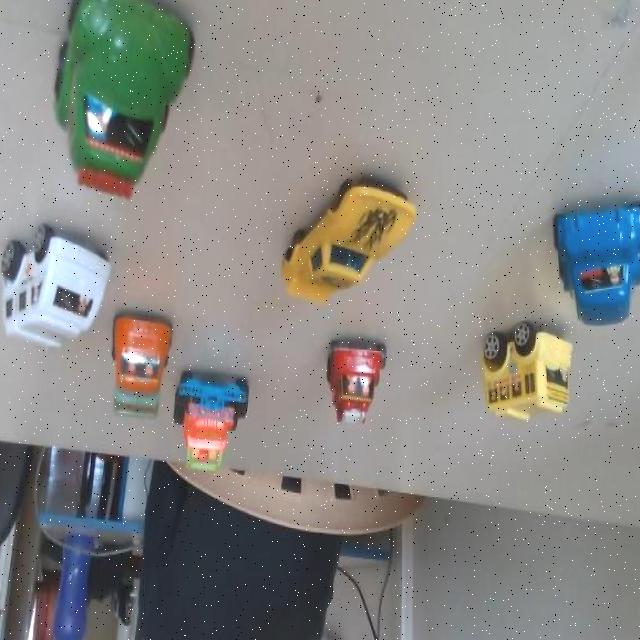car: (31, 6, 184, 187), (265, 166, 424, 312), (0, 206, 118, 369), (550, 191, 640, 331), (469, 313, 566, 421), (310, 319, 391, 437), (176, 373, 260, 481), (100, 306, 172, 431)
